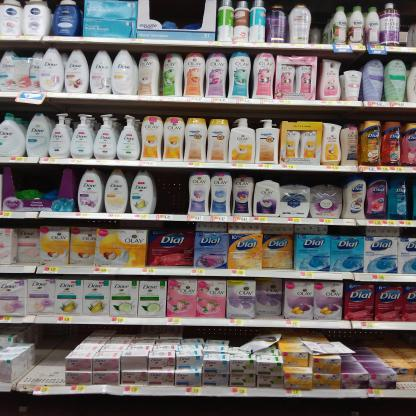Void: (34, 323, 62, 386), (349, 331, 415, 350), (156, 172, 186, 212), (18, 164, 63, 187), (155, 1, 195, 20), (311, 5, 326, 29)
